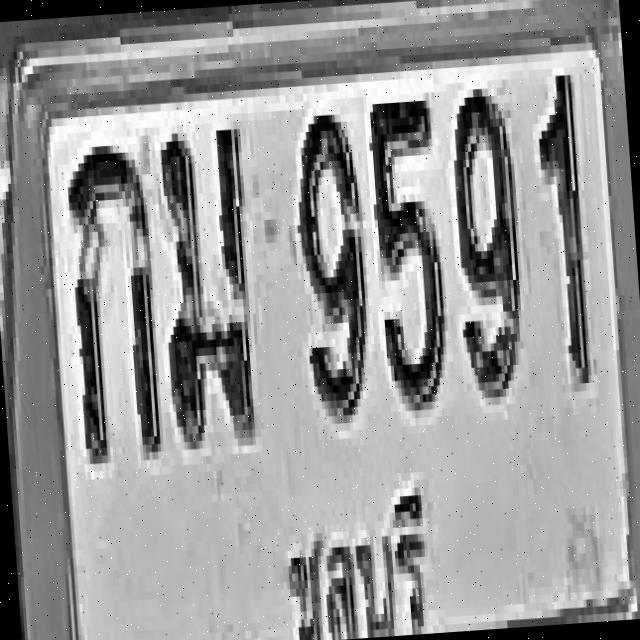1: (532, 67, 592, 385)
10GorGai: (61, 136, 164, 464)
42MorMa: (153, 121, 262, 450)
5: (366, 92, 450, 412)
9: (289, 105, 373, 417), (445, 79, 526, 398)
Chonburi: (278, 474, 437, 640)
